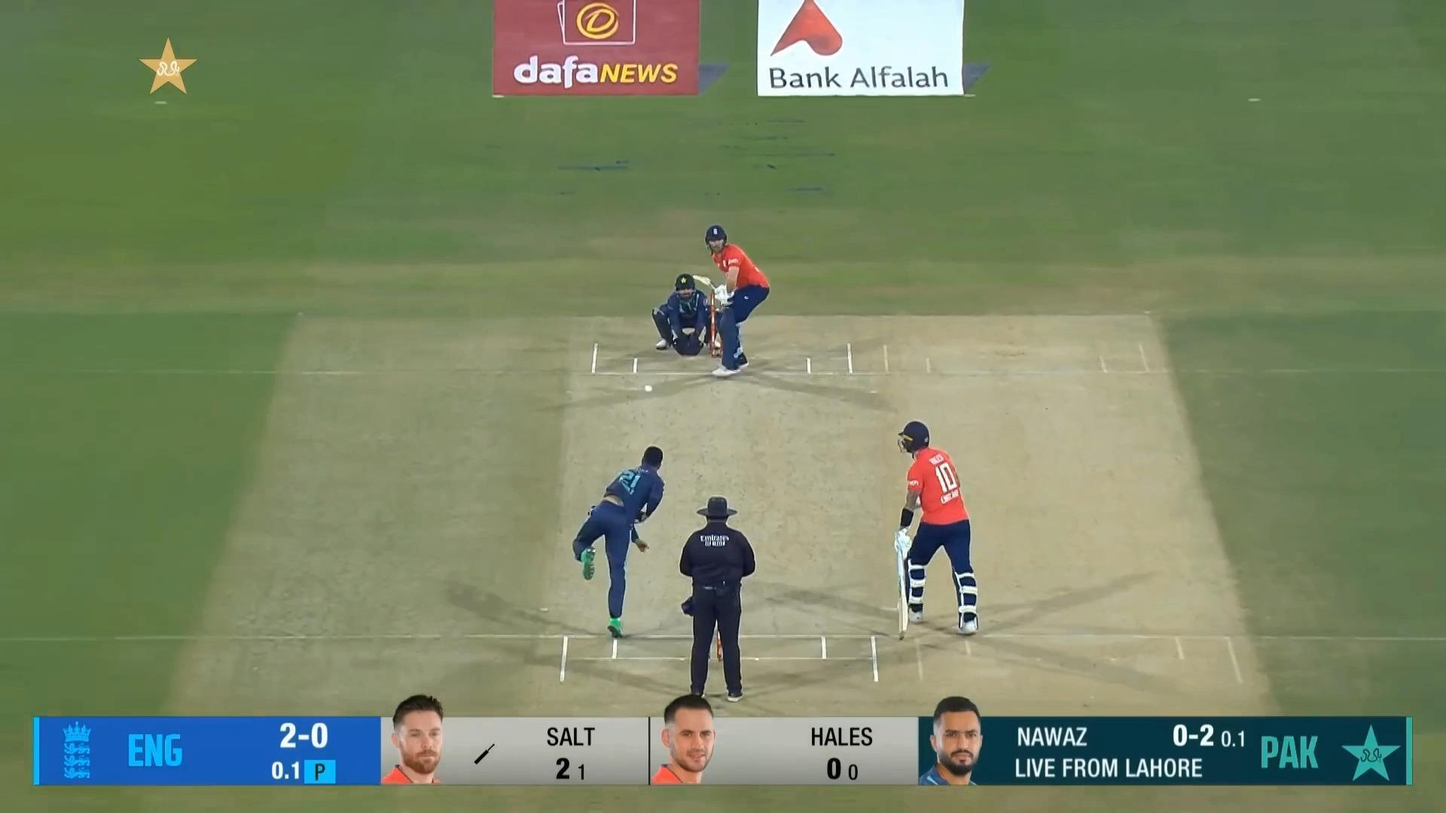BM 1: (692, 224, 770, 378)
BO: (569, 444, 668, 640)
